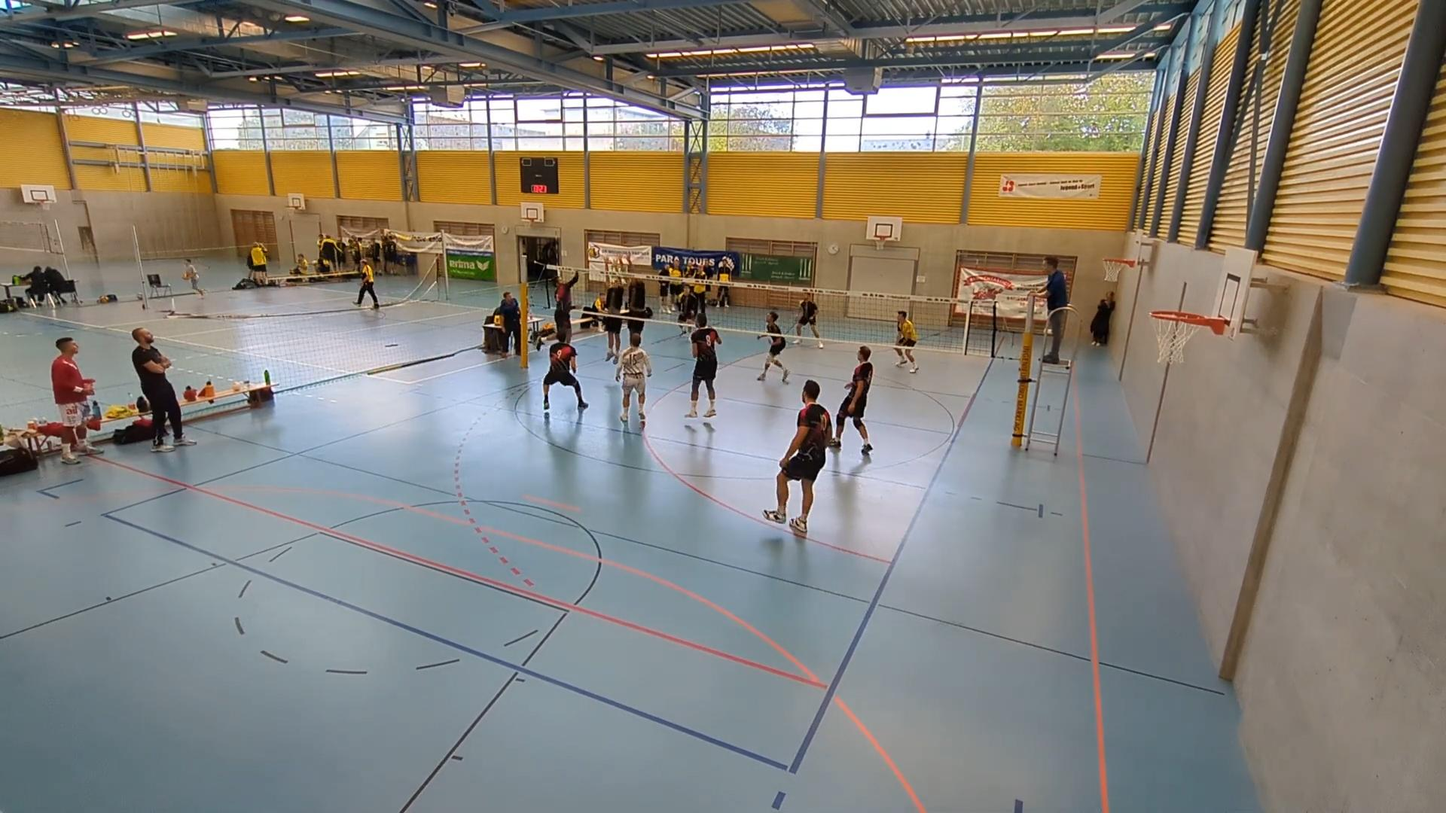Attack: (537, 260, 582, 343)
Block: (594, 256, 624, 375), (621, 256, 648, 349)
Player: (763, 379, 829, 534), (829, 346, 873, 454), (686, 315, 721, 417), (615, 333, 651, 425), (542, 342, 587, 411), (758, 311, 789, 383), (795, 292, 824, 349), (895, 310, 918, 373), (677, 286, 699, 334)
ball: (585, 240, 605, 261)
